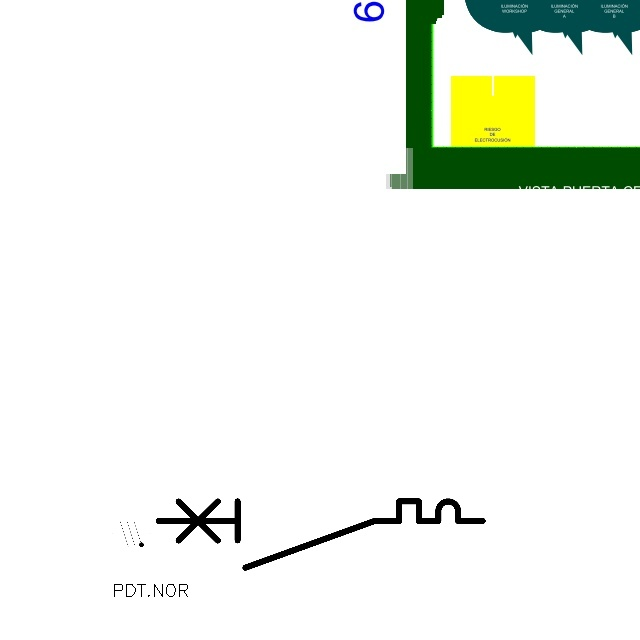interruptor_termomagnetico: (150, 493, 491, 576)
